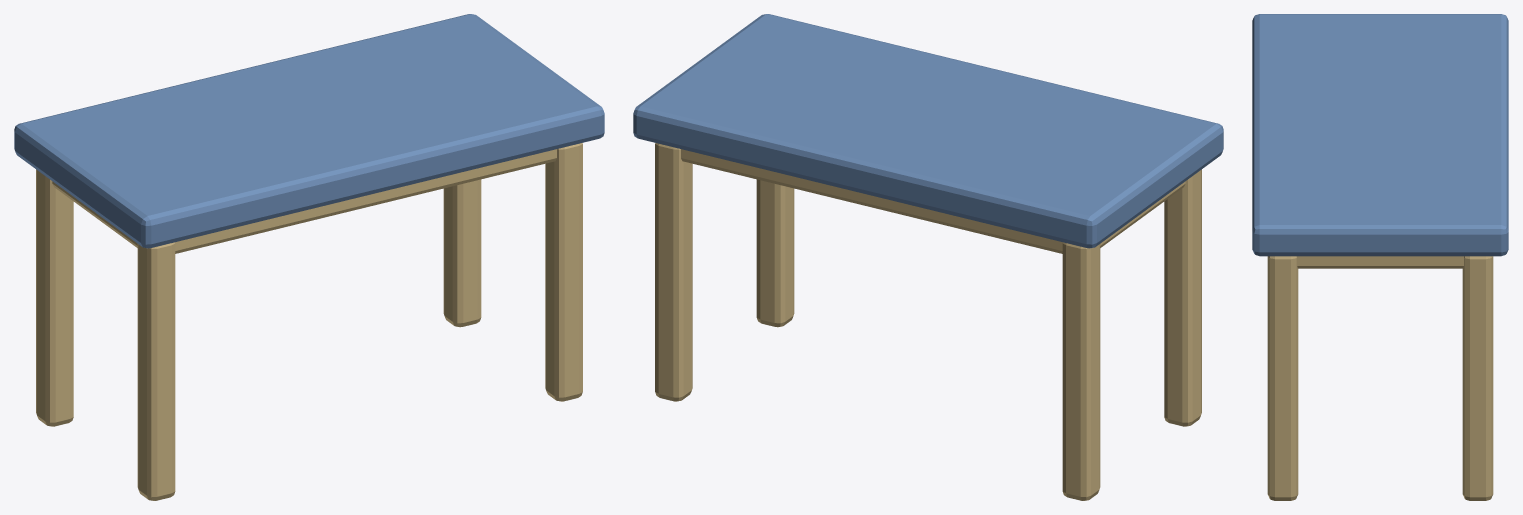
3 renders of one model, left to right at view 1: azimuth 30°, elevation 25°; view 2: azimuth 150°, elevation 25°; view 3: azimuth 270°, elevation 25°, orthographic. The views are drawn at different scales.
Parts seen in each view (by area): view 1: Woodland workbench; view 2: Woodland workbench; view 3: Woodland workbench.
Boxes of the visible parts, left/top/right/bottom form: Woodland workbench: left=14, top=14, right=604, bottom=500; Woodland workbench: left=633, top=14, right=1223, bottom=500; Woodland workbench: left=1252, top=14, right=1508, bottom=500.
Size of the model in its own units: 1.4 by 0.85 by 0.7.
